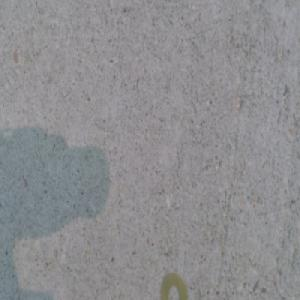Washer: (160, 271, 187, 299)
